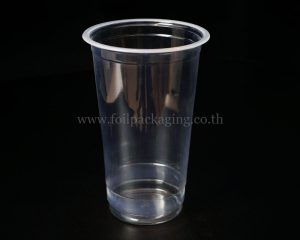plastic_bottle: (80, 17, 212, 224)
